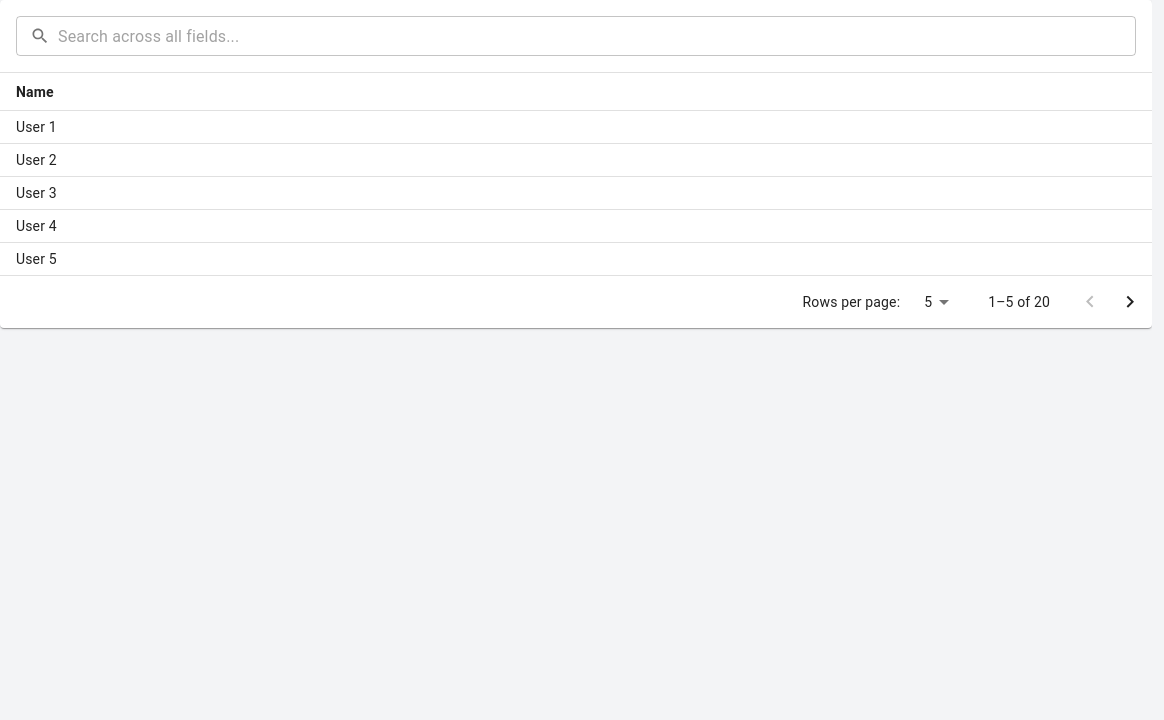
Test: DynamicTable › Pagination › client-side pagination displays, navigates, and uses custom options
This screenshot has width=1164, height=720.
Check: the number of rows is 6, box x1=0 y1=73 x2=1152 y2=111; x1=0 y1=111 x2=1152 y2=144; x1=0 y1=144 x2=1152 y2=177; x1=0 y1=177 x2=1152 y2=210; x1=0 y1=210 x2=1152 y2=243; x1=0 y1=243 x2=1152 y2=276
Check: the text "User 1" is shown, box x1=16 y1=119 x2=57 y2=135
Click the button named "next page" at {"x": 1130, "y": 302}, box x1=1110 y1=282 x2=1150 y2=322
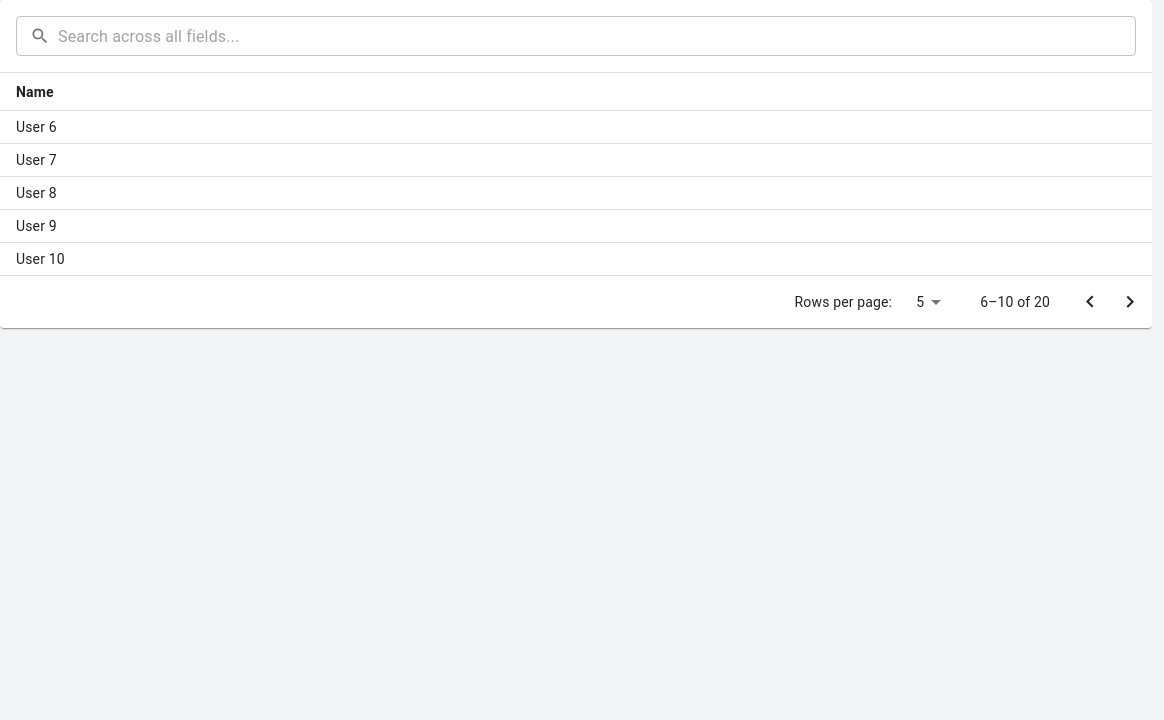
Check: the text "User 6" is shown, box x1=16 y1=119 x2=57 y2=135
Press the mouse on the dropdown at {"x": 920, "y": 302}, box x1=916 y1=294 x2=924 y2=310
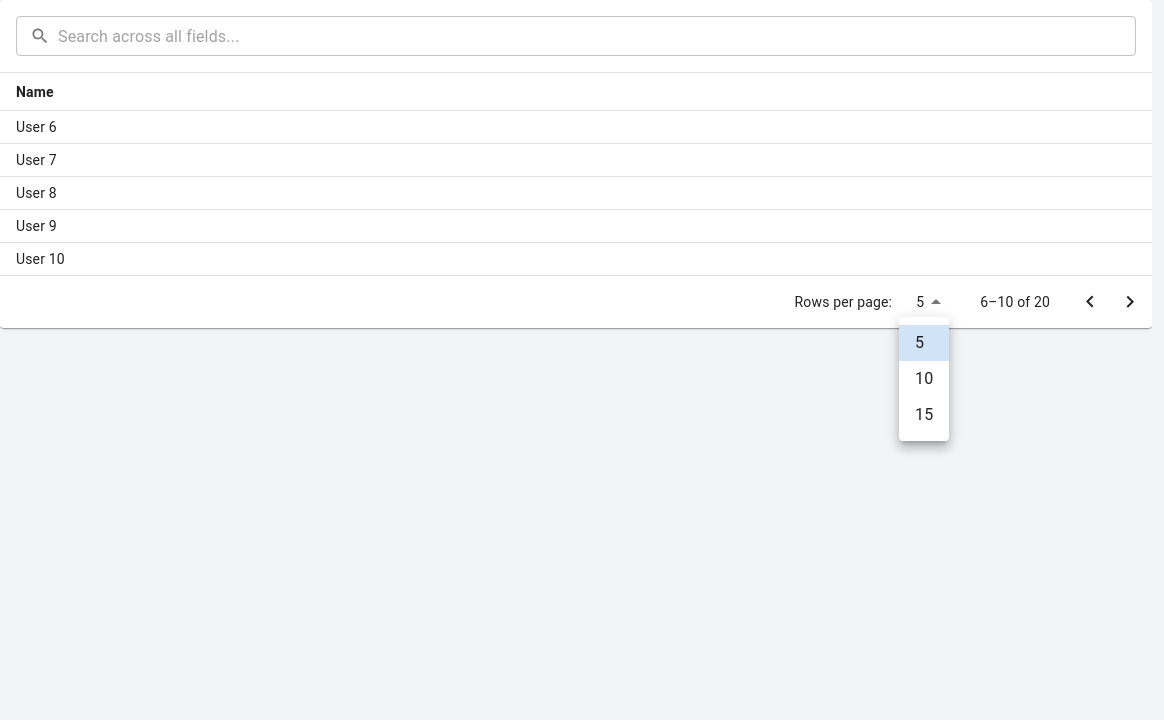
Click the option "10" at {"x": 924, "y": 378}, box x1=915 y1=369 x2=933 y2=388
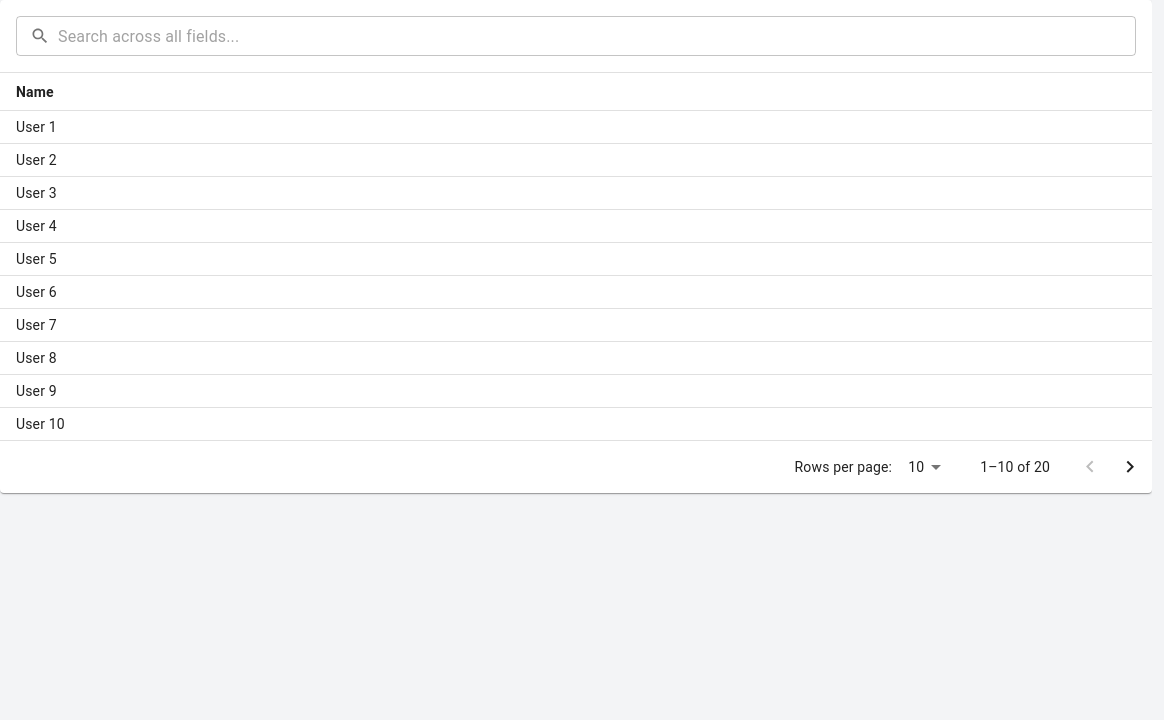
Check: the number of rows is 11
